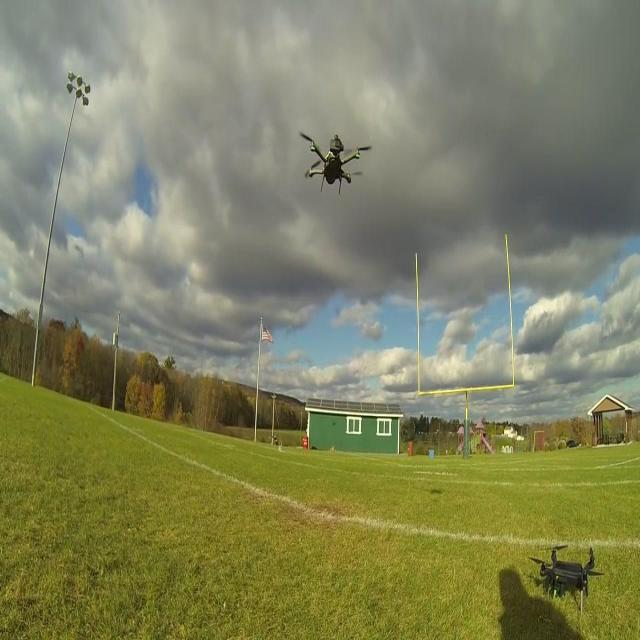UAV: (528, 545, 604, 614), (298, 130, 372, 196)
